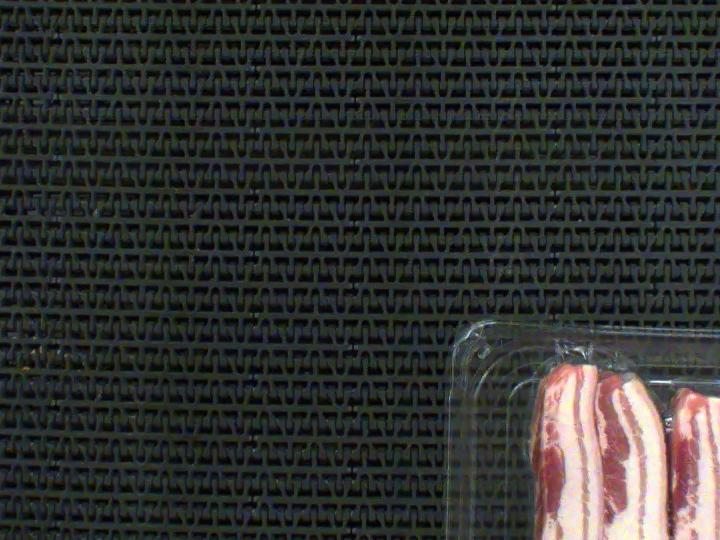unsealed: (541, 329, 720, 445)
